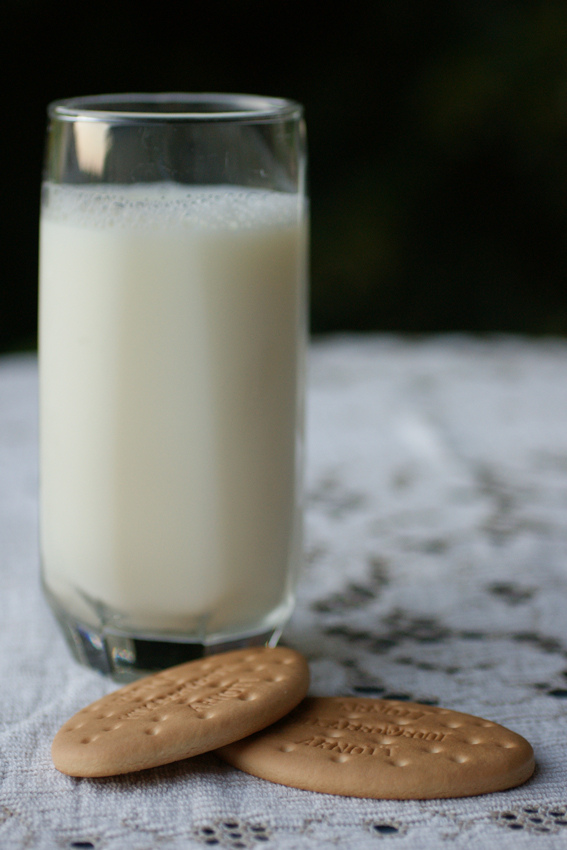glass of milk: (44, 93, 301, 707)
